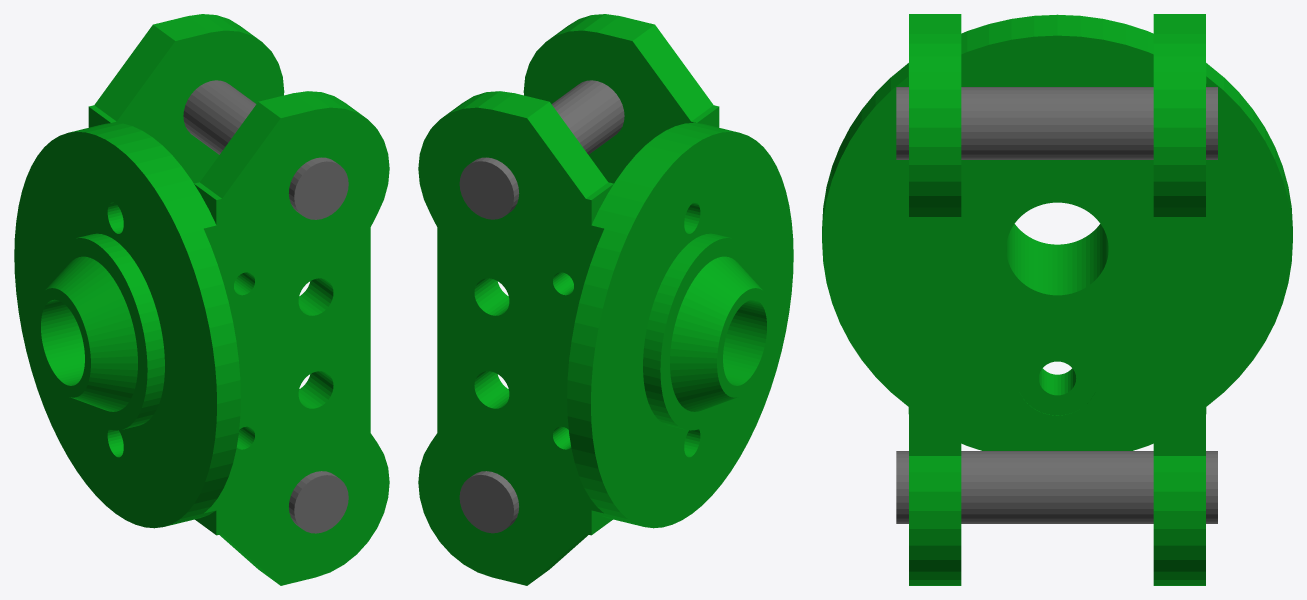
Rendered from GripperBase.dae.
3 renders of one model, left to right at view 1: azimuth 30°, elevation 25°; view 2: azimuth 150°, elevation 25°; view 3: azimuth 270°, elevation 25°, orthographic. The views are drawn at different scales.
Parts seen in each view (by area): view 1: Jaw-Holder, Mounting-Plate, B_Cut_Jaw-Holder_001; view 2: Jaw-Holder, Mounting-Plate, B_Cut_Jaw-Holder_001; view 3: Mounting-Plate, Jaw-Holder, B_Cut_Jaw-Holder_001.
Boxes of the visible parts, left/top/right/bottom form: Jaw-Holder: left=88, top=14, right=389, bottom=585; Mounting-Plate: left=14, top=122, right=240, bottom=528; B_Cut_Jaw-Holder_001: left=183, top=80, right=348, bottom=533; Jaw-Holder: left=418, top=14, right=719, bottom=585; Mounting-Plate: left=567, top=122, right=793, bottom=528; B_Cut_Jaw-Holder_001: left=459, top=80, right=624, bottom=533; Mounting-Plate: left=822, top=14, right=1292, bottom=450; Jaw-Holder: left=909, top=14, right=1205, bottom=585; B_Cut_Jaw-Holder_001: left=896, top=87, right=1217, bottom=523.
Bounding box in the file's own units: 0.0855 × 0.1143 × 0.1454.
